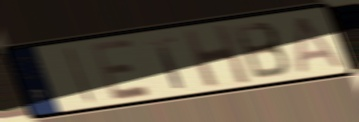A: (293, 13, 347, 75)
B: (229, 19, 293, 82)
E: (87, 36, 156, 103)
H: (180, 22, 254, 90)
I: (62, 44, 97, 106)
T: (142, 33, 187, 91)
